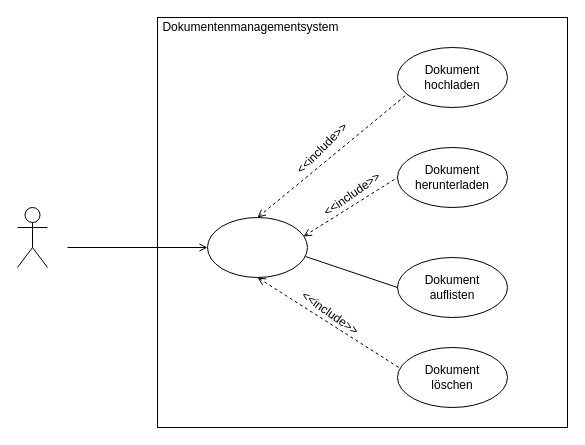
This 585x445 diagram has some shape labels left out. The centre of each missing label's shape, as x and y in pixels:
"Login" goes at pixel 257 247.
"User" goes at pixel 32 237.
